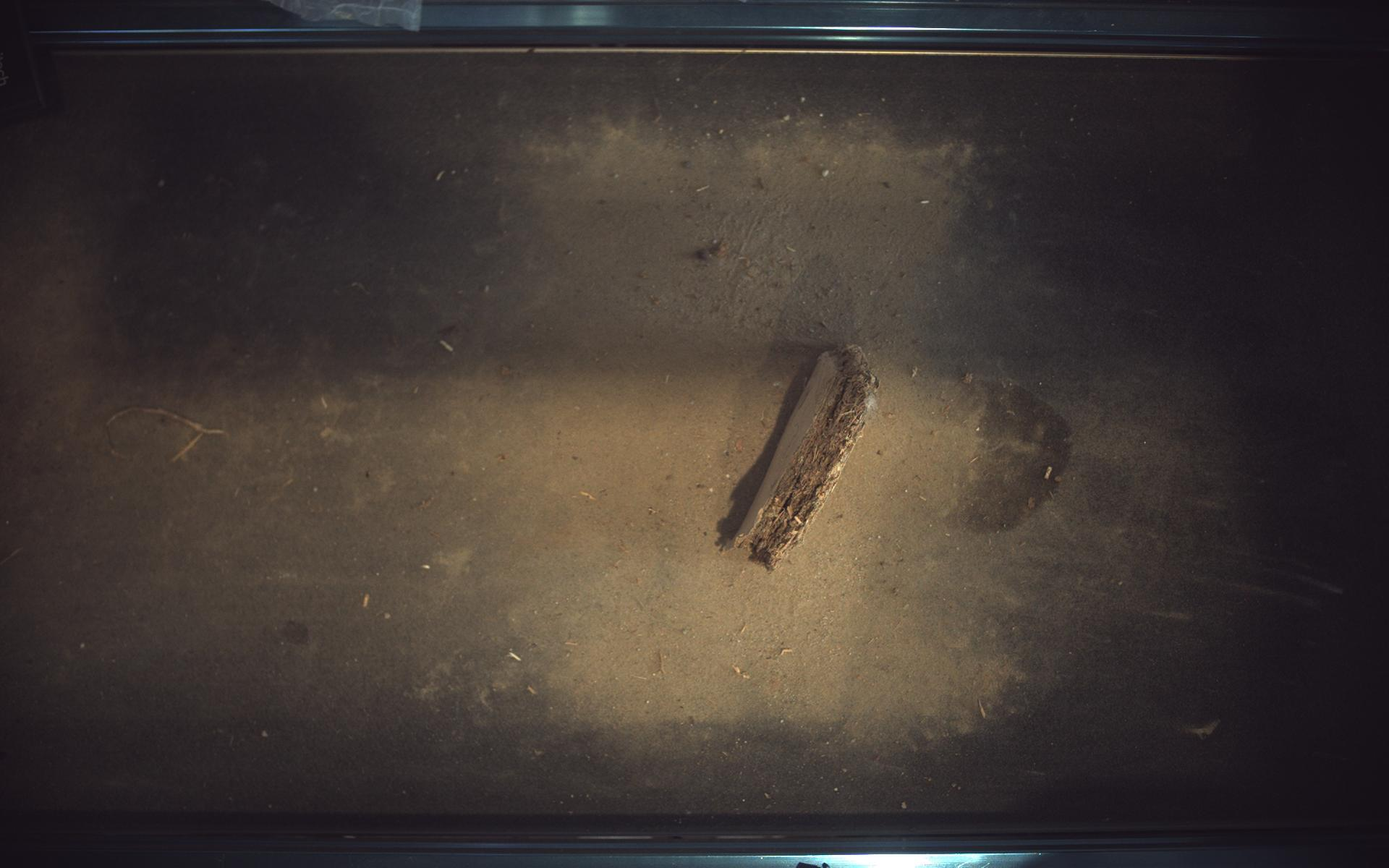wood: (727, 345, 880, 570)
